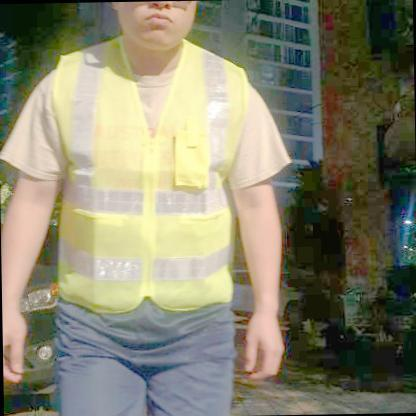vest: (51, 32, 254, 316)
